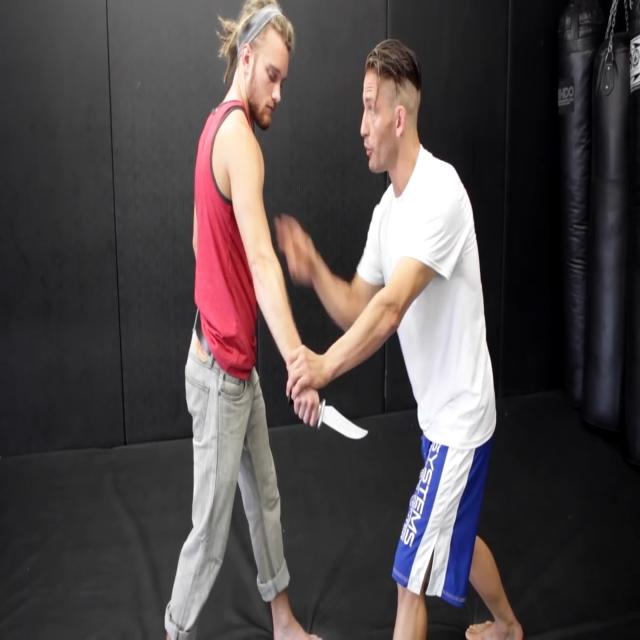knife: (318, 390, 372, 452)
